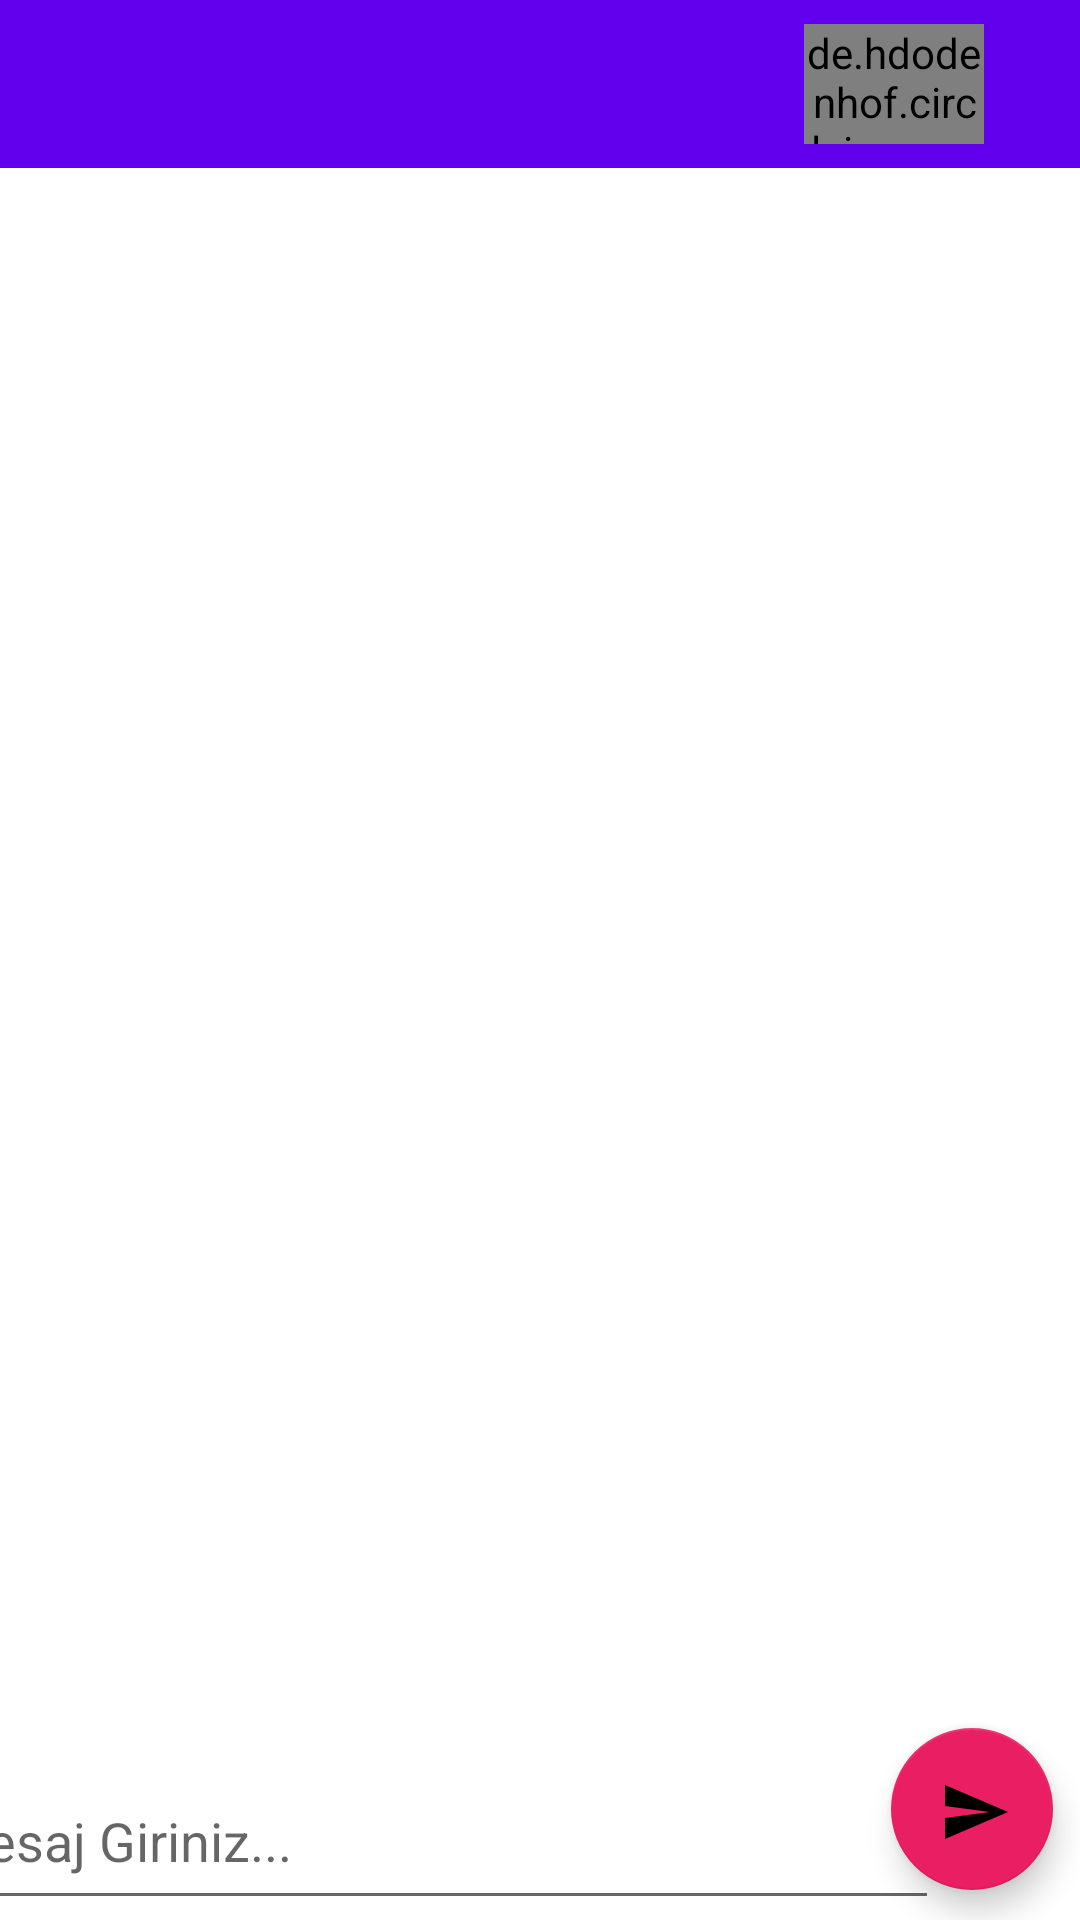

Where icons sit on this 1080*1920 app screen, as bbox(x1, y1, x2, y2):
send: bbox(891, 1728, 1053, 1890)
